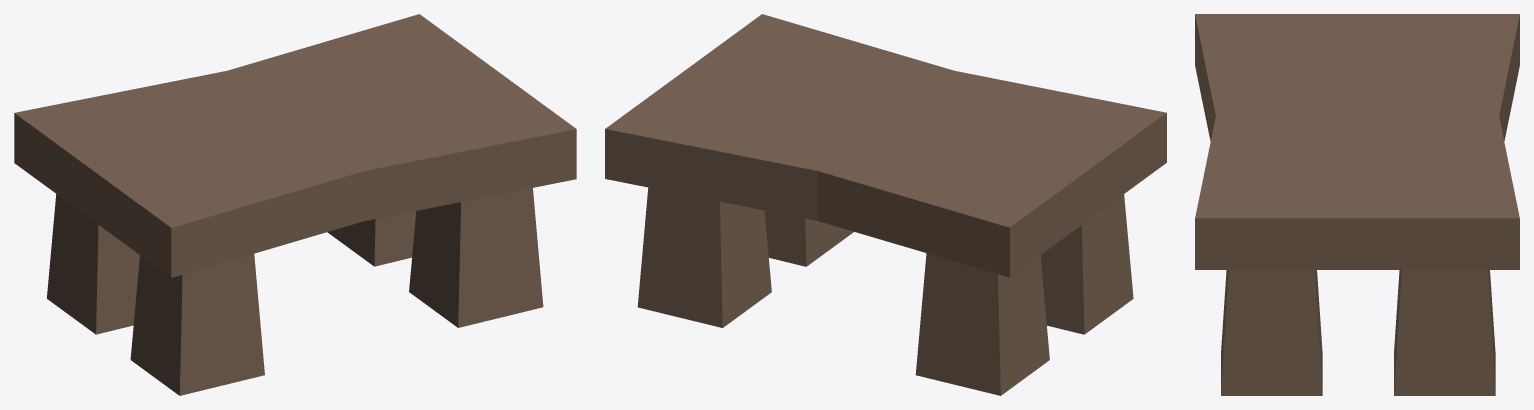
Rendered from Stool.fbx.
3 renders of one model, left to right at view 1: azimuth 30°, elevation 25°; view 2: azimuth 150°, elevation 25°; view 3: azimuth 270°, elevation 25°, orthographic. The views are drawn at different scales.
Parts seen in each view (by area): view 1: Stool; view 2: Stool; view 3: Stool.
Part boxes in pixels (x1,y1,x2,y2): Stool: [14, 14, 576, 395]; Stool: [605, 14, 1166, 395]; Stool: [1195, 14, 1519, 395].
Size of the model in its own units: 57.61 by 38.72 by 24.75.
